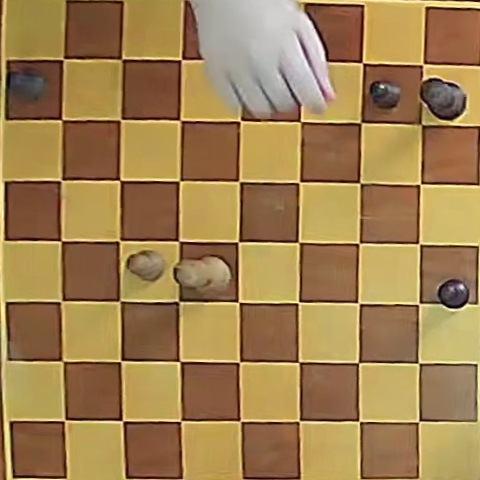black-king: (420, 79, 466, 121)
black-pawn: (8, 69, 46, 102), (437, 278, 469, 310), (370, 81, 401, 109)
white-king: (175, 256, 232, 291)
white-pawn: (127, 250, 166, 281)
